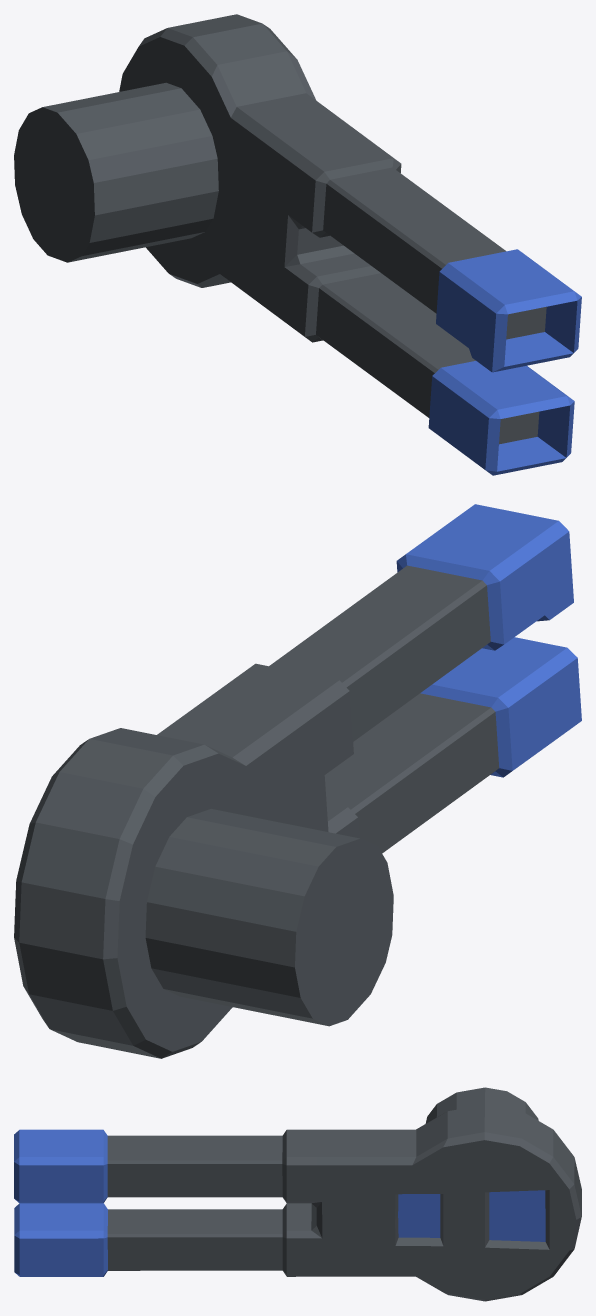
Rendered from Dropship_04_Artillery_Blue.fbx.
3 renders of one model, top to bottom at view 1: azimuth 30°, elevation 25°; view 2: azimuth 150°, elevation 25°; view 3: azimuth 270°, elevation 25°, orthographic. The views are drawn at different scales.
Parts seen in each view (by area): view 1: Dropship_04_Artillery_Blue; view 2: Dropship_04_Artillery_Blue; view 3: Dropship_04_Artillery_Blue.
Boxes of the visible parts, x1,y1,x2,y2 form: Dropship_04_Artillery_Blue: [14, 14, 581, 475]; Dropship_04_Artillery_Blue: [14, 504, 581, 1058]; Dropship_04_Artillery_Blue: [14, 1087, 581, 1301].
Bounding box in the file's own units: 69.09 × 71.62 × 207.
Materials: 1 (1 with a texture image).
